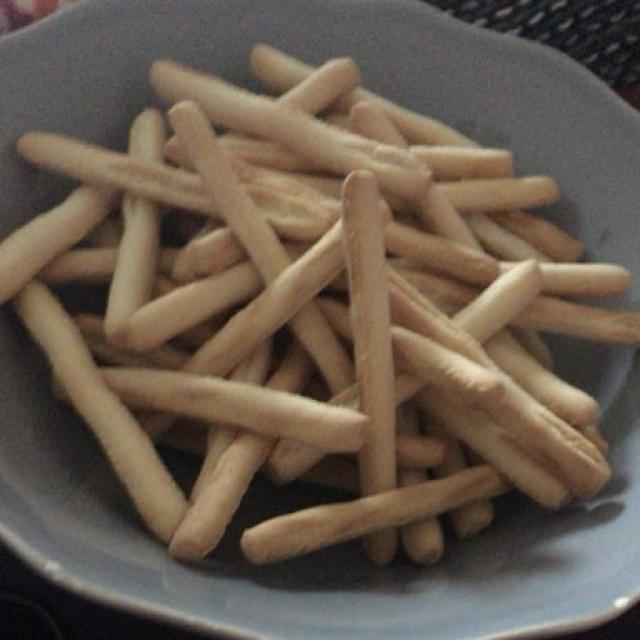grissini: (17, 63, 621, 558)
